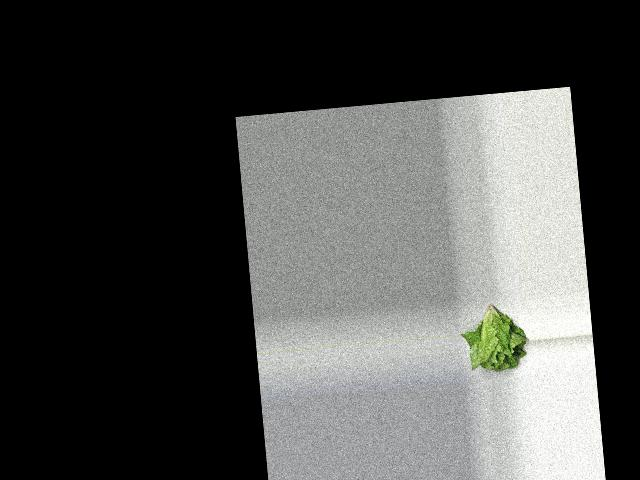lettuce: (459, 300, 529, 375)
